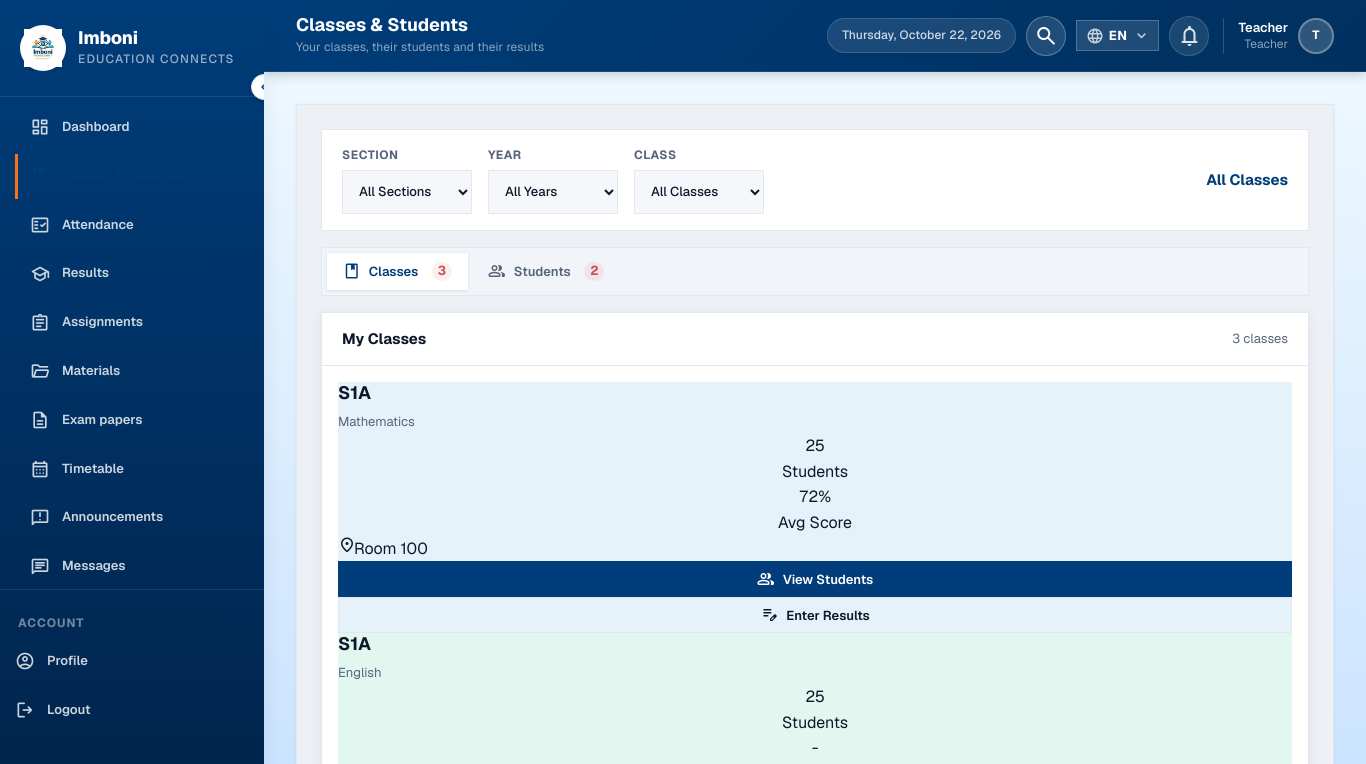
Test: TeacherClasses — Classes & Students › students tab › "View Students" on a card switches tab with that class already picked
The image size is (1366, 764).
Expected: the text "Mathematics" is shown, [338,412,415,430]
Click the button "View Students".
click(815, 579)  # box [338,561,1292,597]
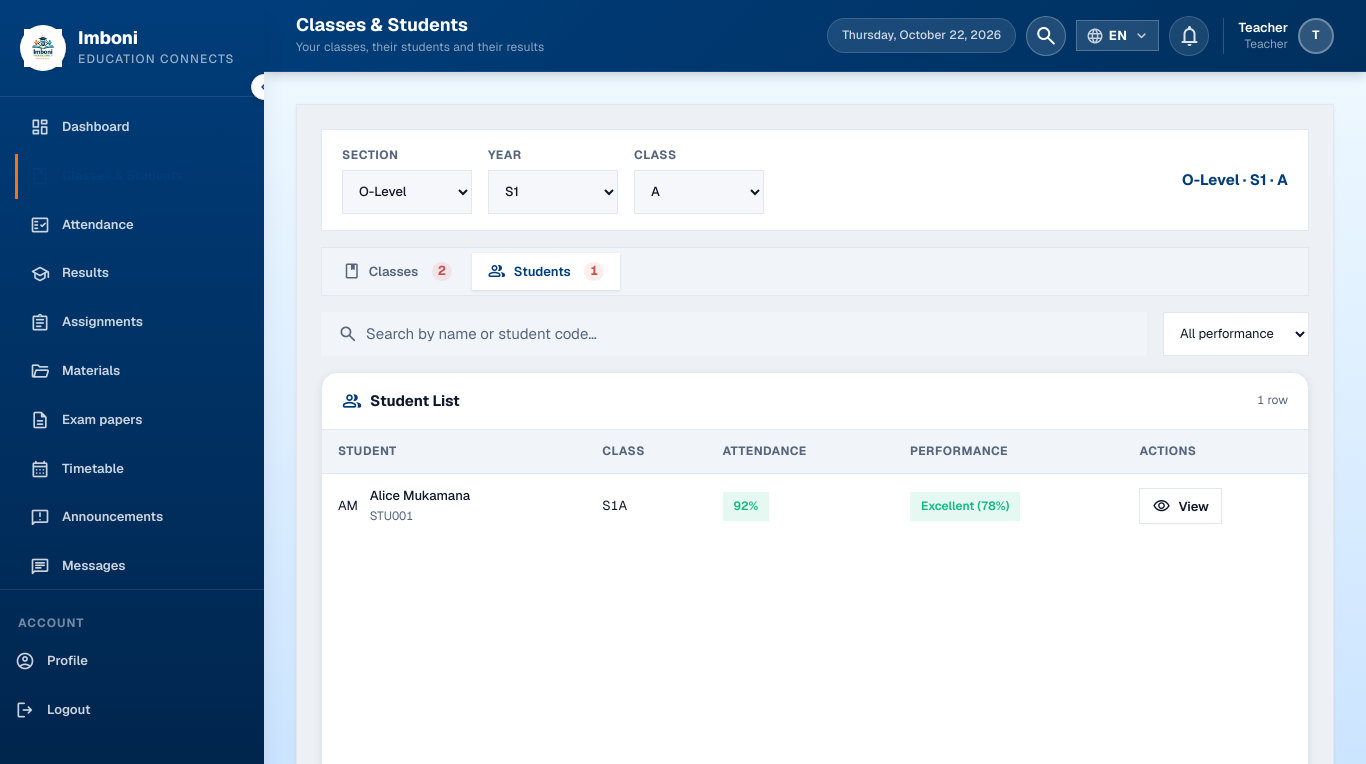
Now the text "Alice Mukamana" is shown, box [370,486,470,507]
Now the dropdown labelled "Class" shows "A", box [634,170,764,214]
